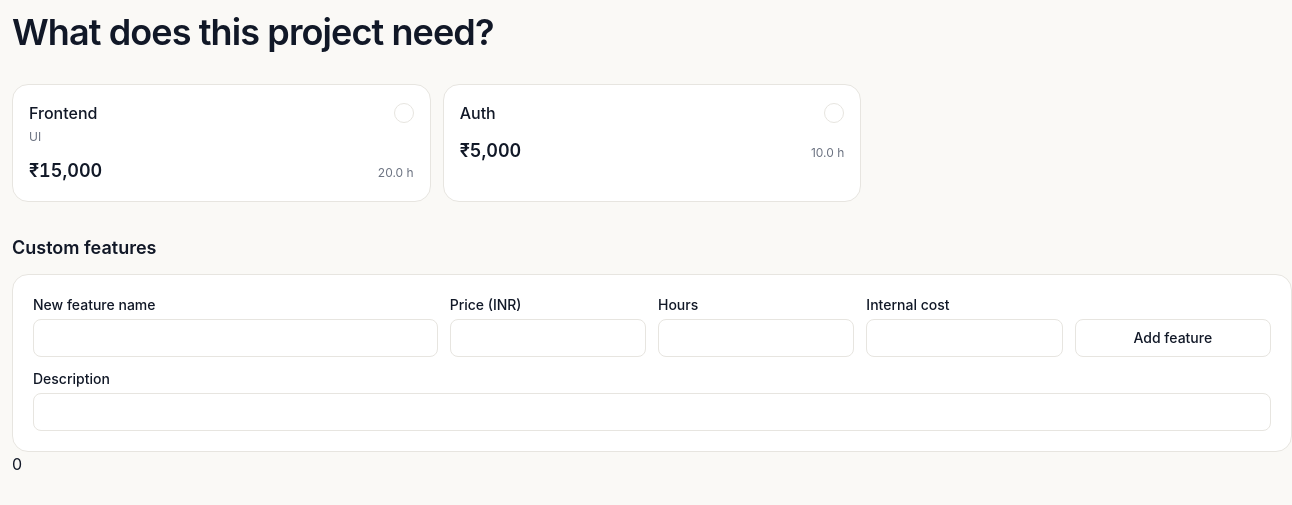
Test: feature selection › multiplies by quantity
Click the button "Auth ₹5,000 10.0 h" at (478,113), box [460,101,844,165]
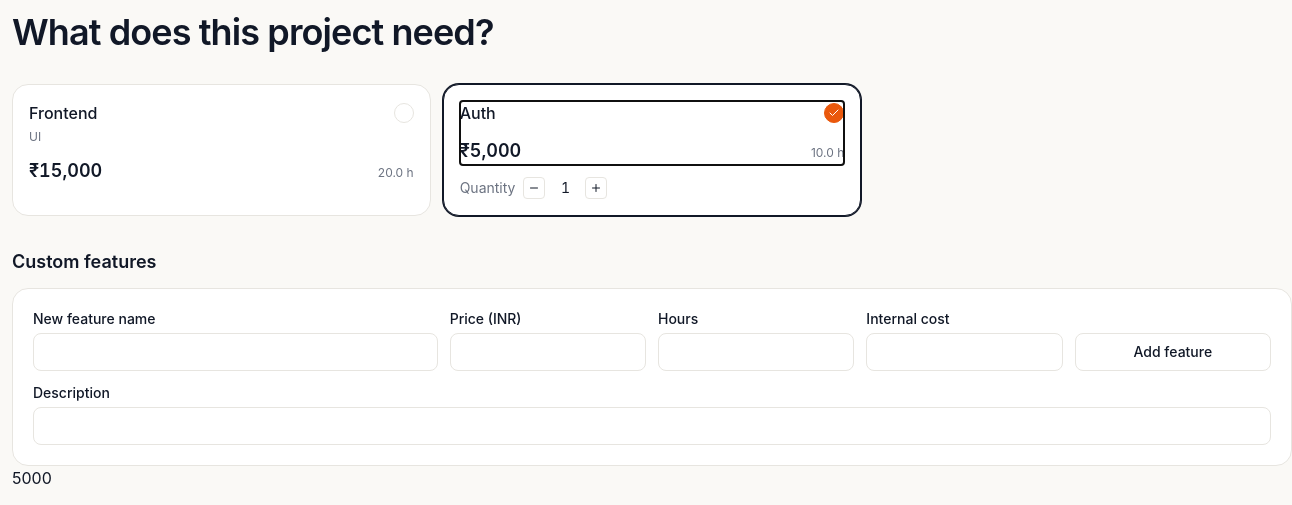
Click the button named "Increase Auth quantity" at (596,188), box [586,177,608,199]
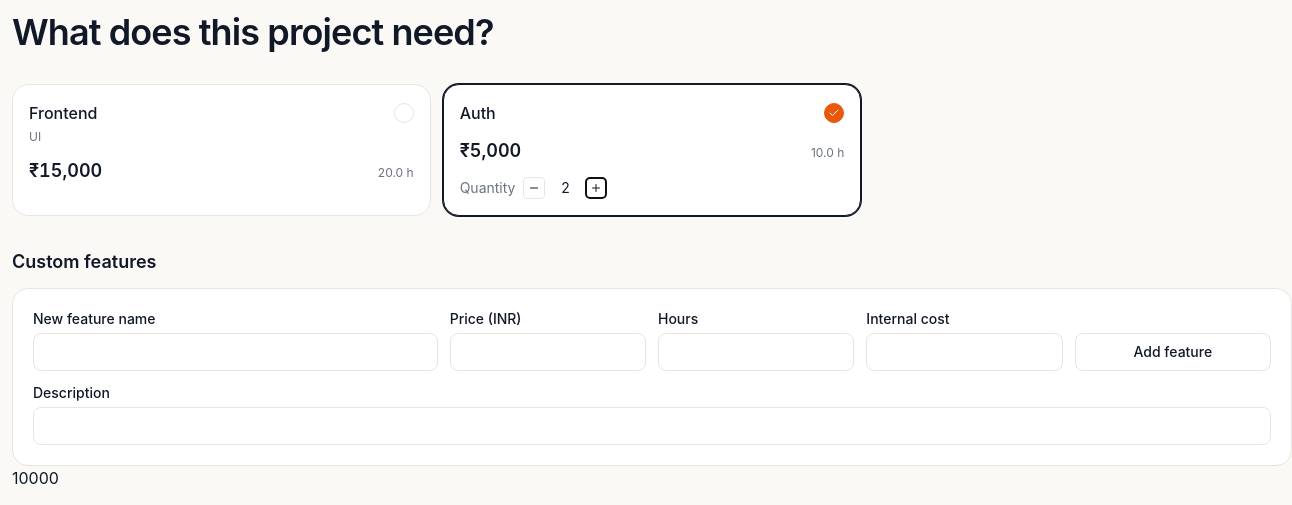
Result: the text with test id "total" reads "10000" at [12,468,59,488]
